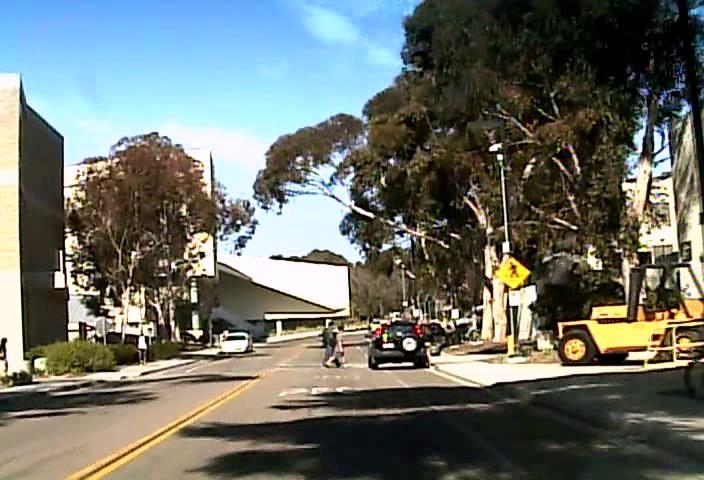pedestrianCrossing: (494, 255, 531, 288)
